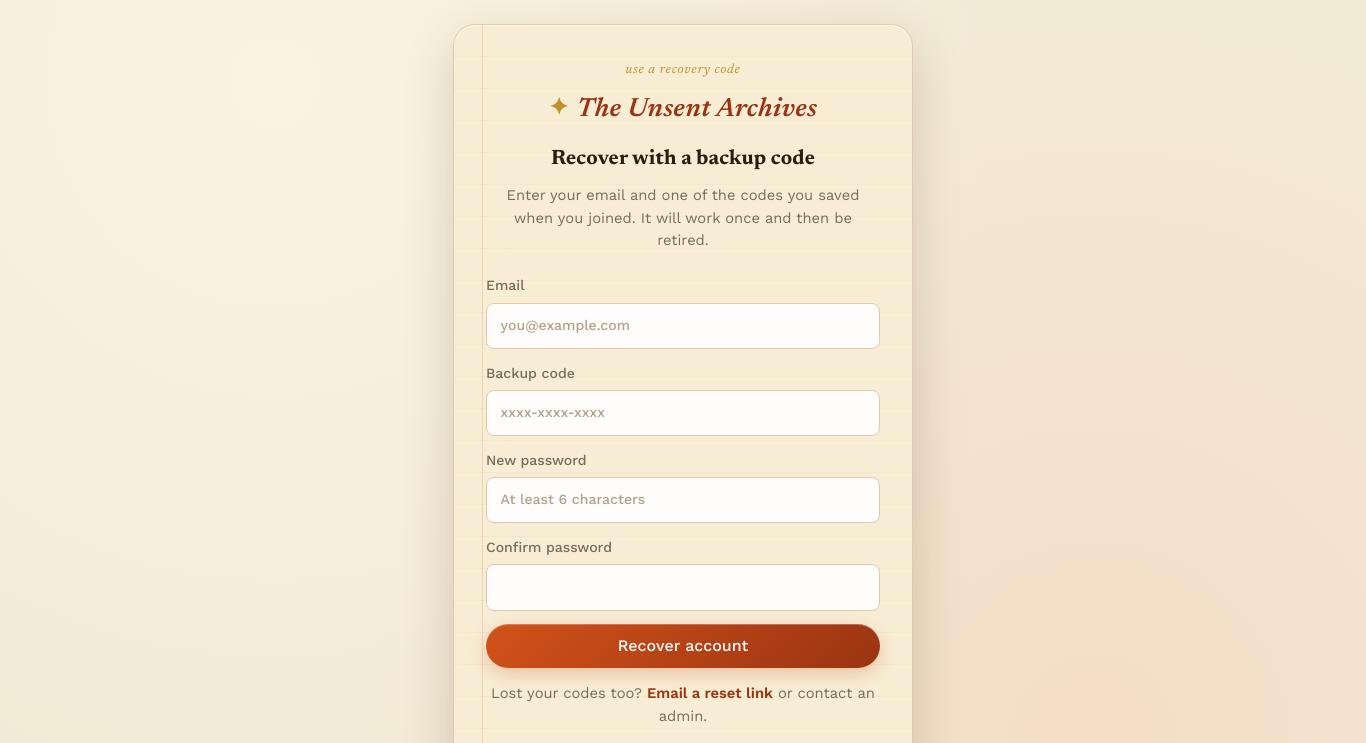
Test case: RecoverWithCode page › says the server is unreachable when the request never got a response
Step 1. Type "me@example.com" into the field labelled "Email" → coordinates (683, 326), box [486, 303, 880, 349]
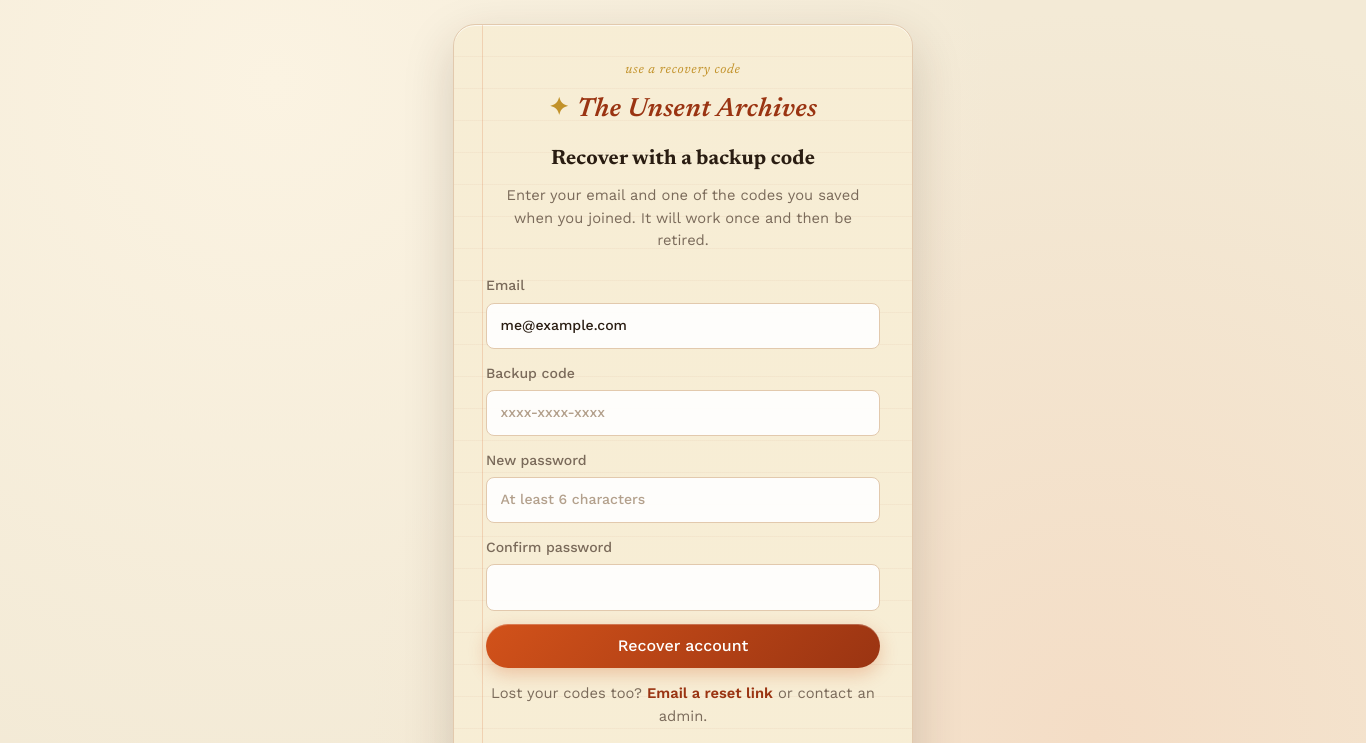
Step 2. Type "aaaa-bbbb-cccc" into the field labelled "Backup code" → coordinates (683, 413), box [486, 390, 880, 436]
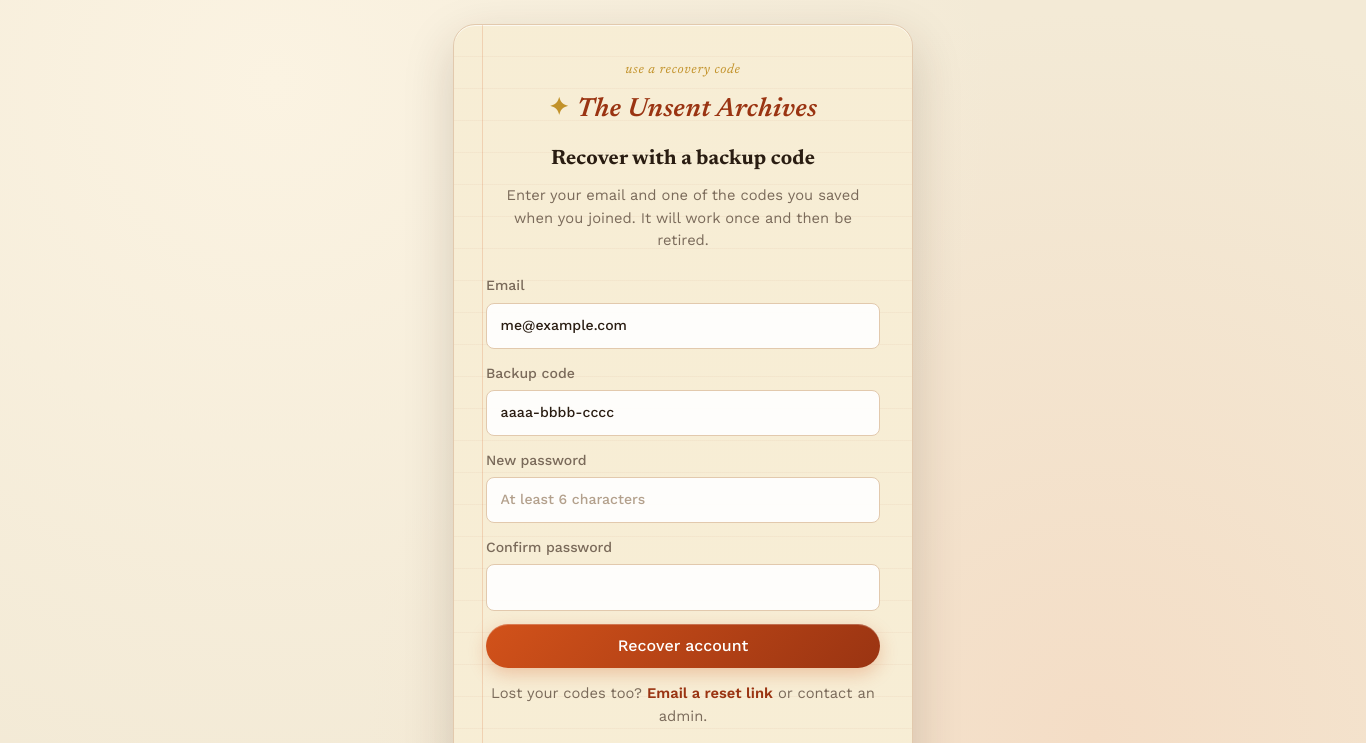
Step 3. Type "hunter22" into the password field labelled "New password" → coordinates (683, 500), box [486, 477, 880, 523]
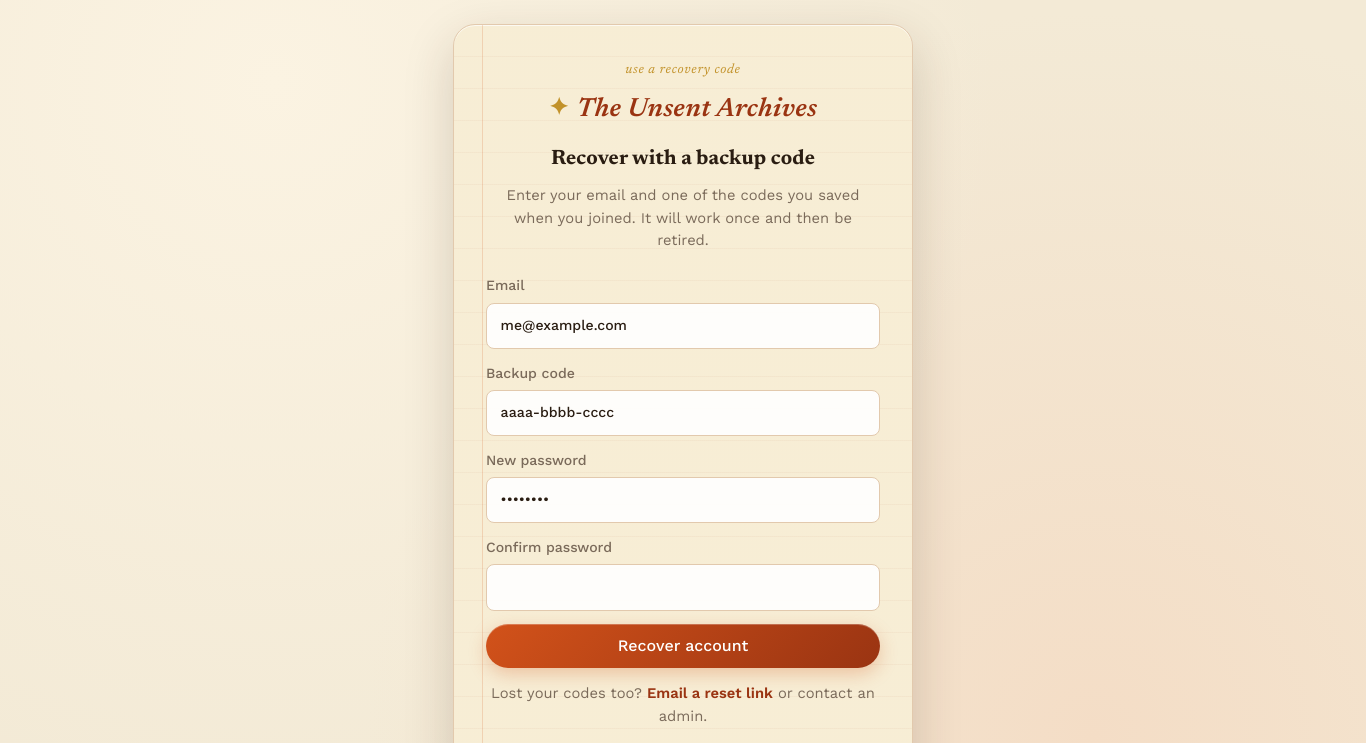
Step 4. Type "hunter22" into the password field labelled "Confirm password" → coordinates (683, 587), box [486, 564, 880, 610]
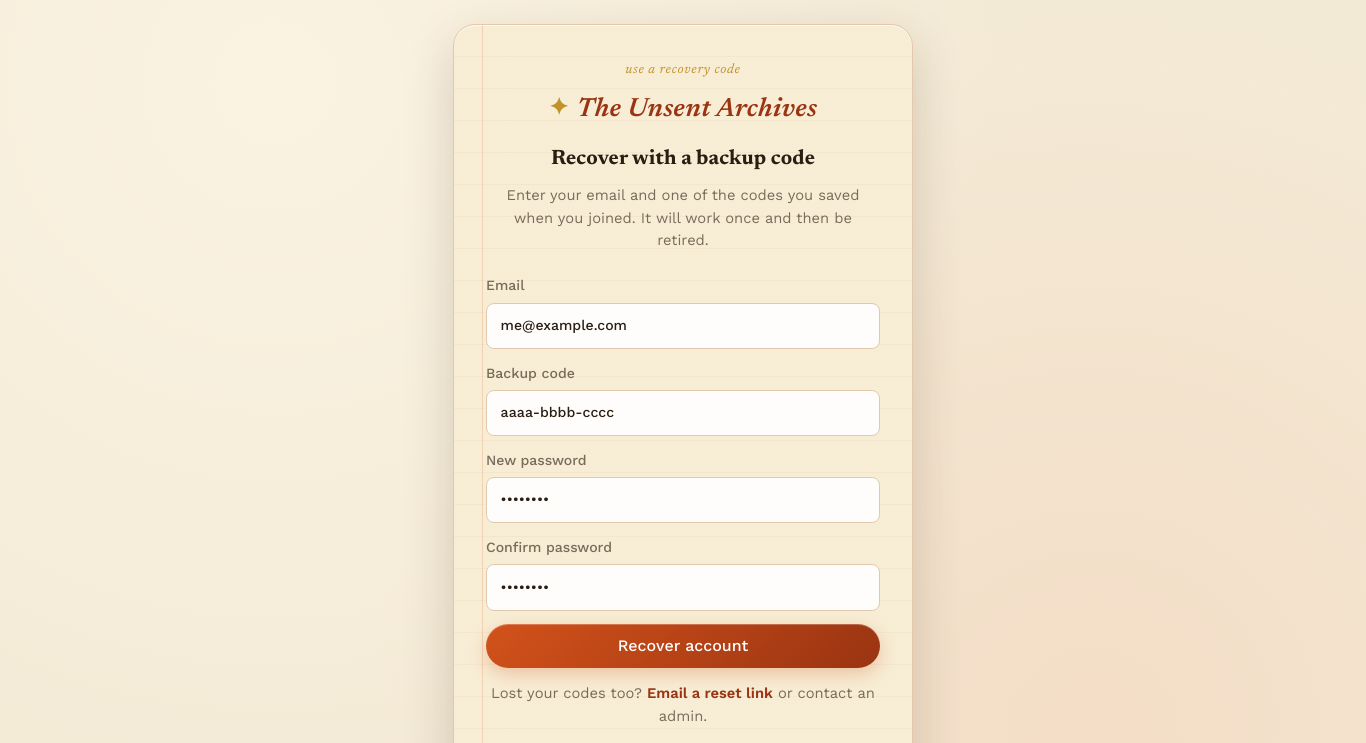
Step 5. Click the button "Recover account" → coordinates (683, 646), box [486, 624, 880, 668]
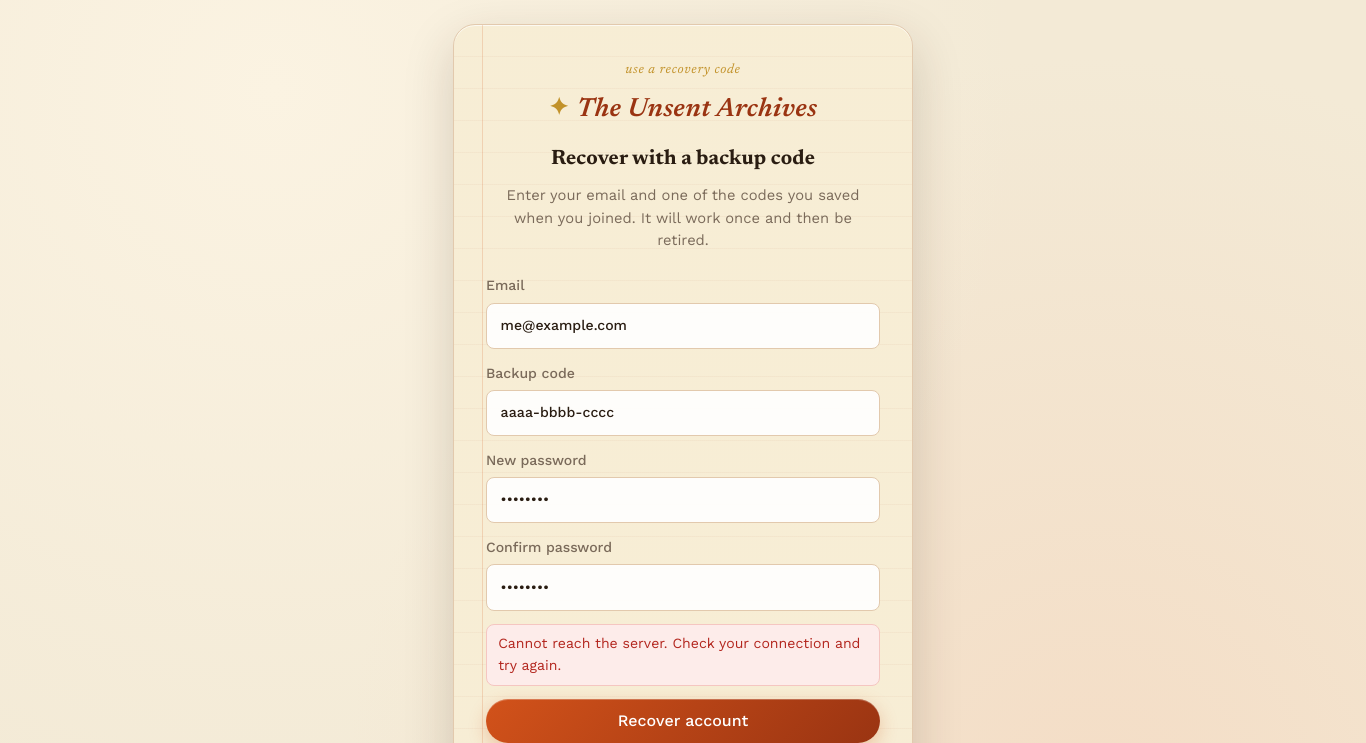
Result: the text "Cannot reach the server" is shown at [498, 635, 860, 673]
